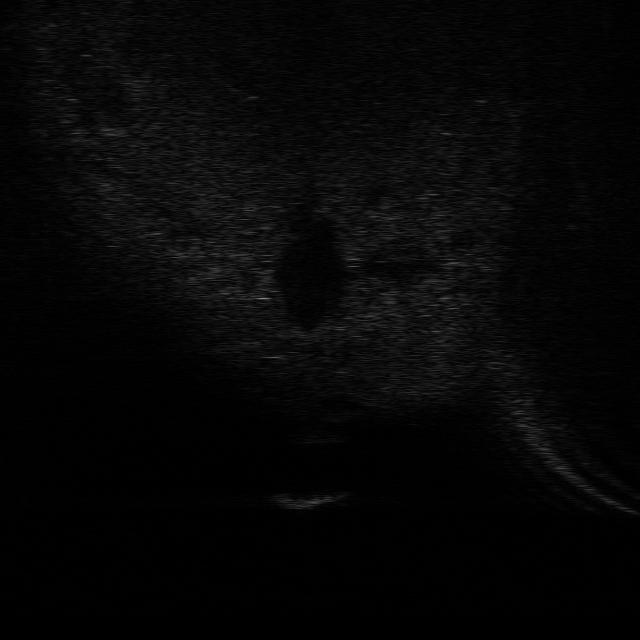cube: (266, 492, 352, 512)
